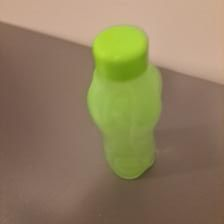bottle: (87, 24, 163, 182)
